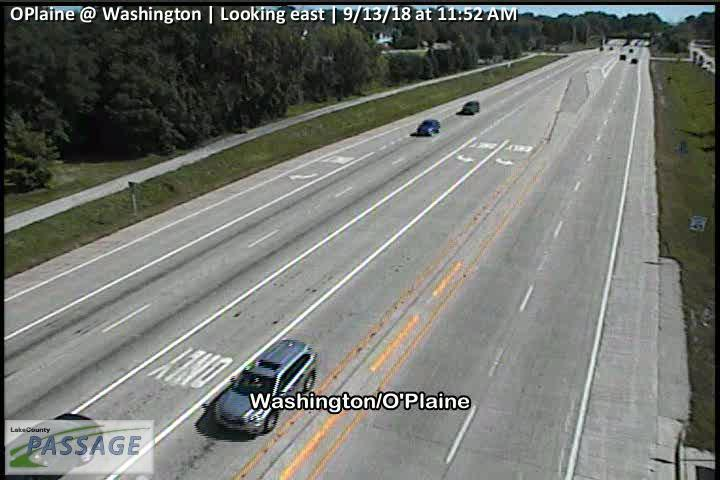SUV: (214, 339, 319, 433), (462, 102, 480, 114)
Sedan: (2, 413, 103, 480), (416, 119, 440, 137)
